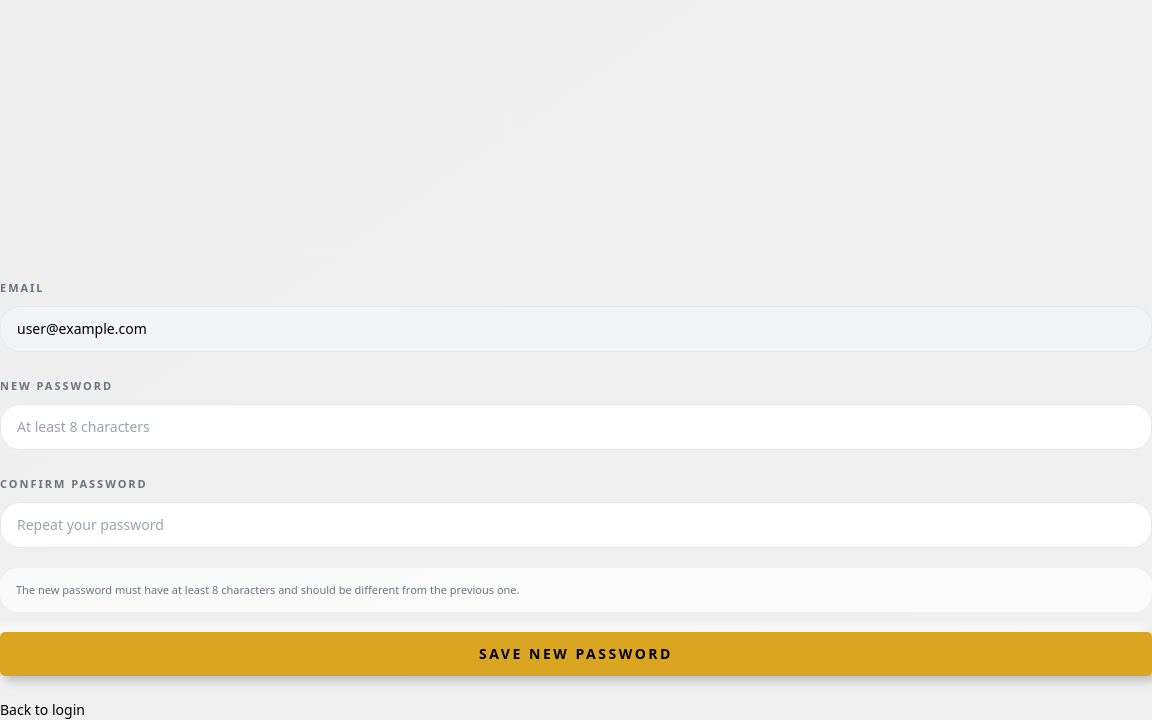
Test: NewPassword › updates the password, clears the old session and returns to login
Type "new-password" into the password field with placeholder "At least 8 characters" at (576, 427), box [0,404,1151,450]
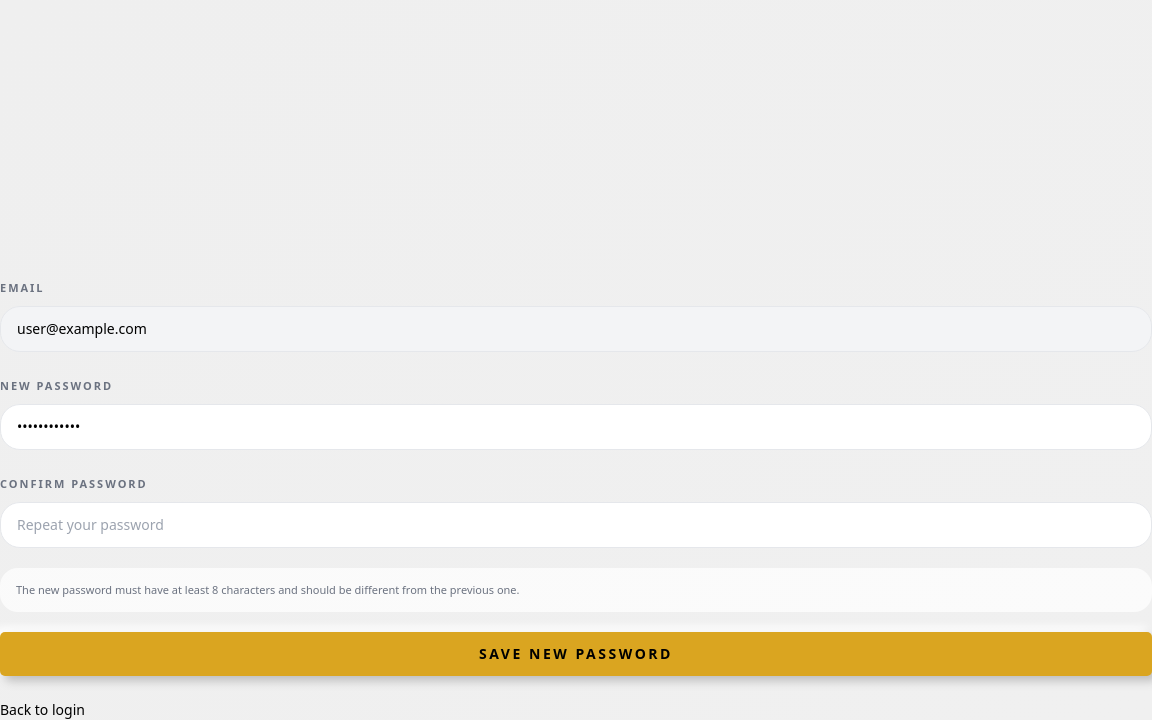
Type "new-password" into the password field with placeholder "Repeat your password" at (576, 525), box [0,502,1151,548]
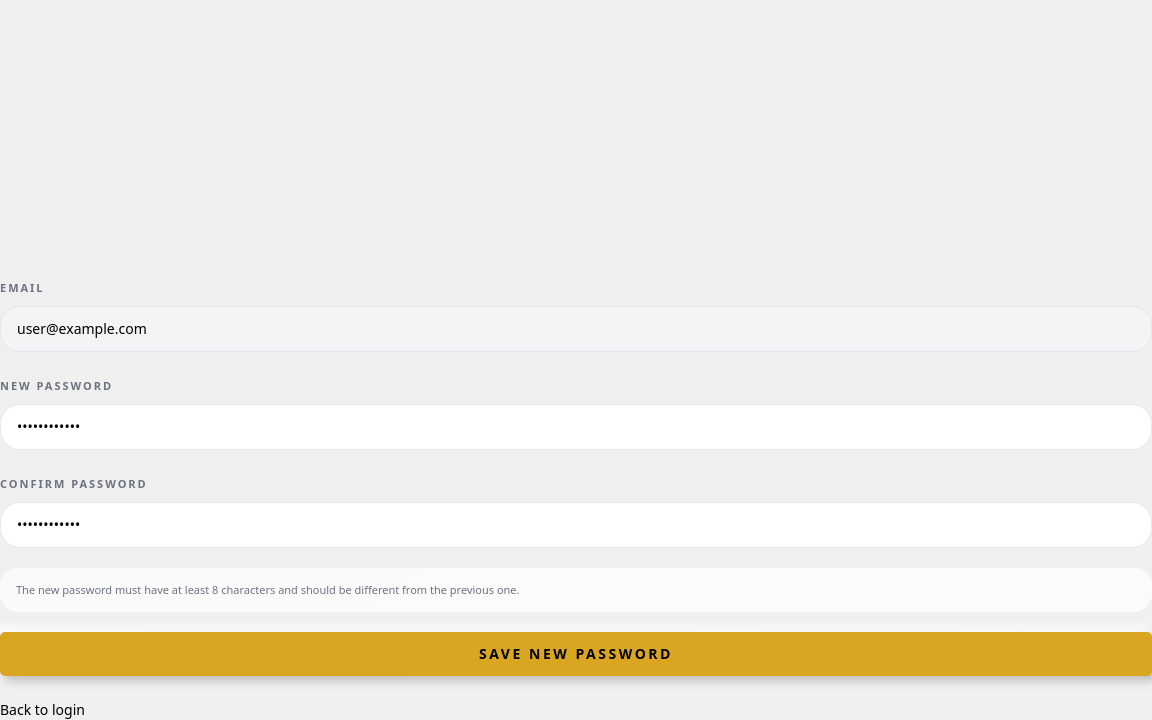
Click the button "Save New Password" at (576, 654), box [0,632,1151,676]
Wait 1500 ms
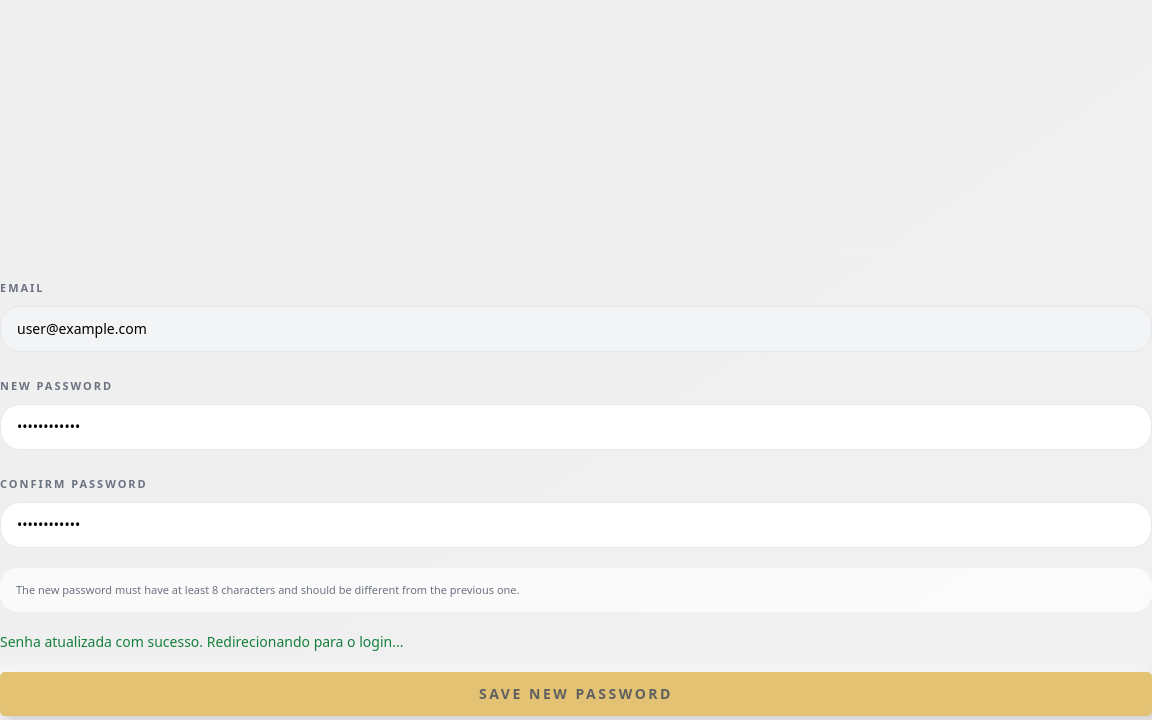
Expected: the text "Senha atualizada com sucesso. Redirecionando para o login..." is shown, [0,632,403,651]
